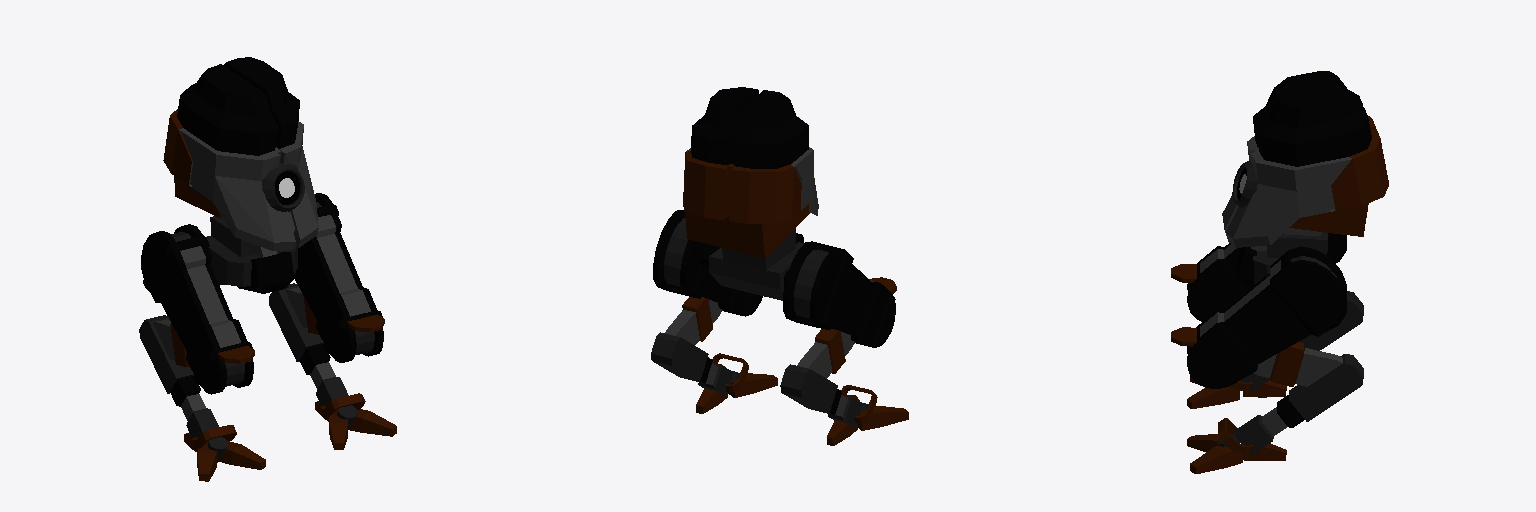
The model's file is Leela.obj.
The picture shows the model from 3 angles: view 1: azimuth 30°, elevation 25°; view 2: azimuth 150°, elevation 25°; view 3: azimuth 270°, elevation 25°; orthographic projection.
Visible parts, largest first — view 1: Leela.001_Cube.001; view 2: Leela.001_Cube.001; view 3: Leela.001_Cube.001.
Part boxes in pixels (bbox=[...]): Leela.001_Cube.001: bbox=[139, 57, 396, 481]; Leela.001_Cube.001: bbox=[651, 87, 908, 445]; Leela.001_Cube.001: bbox=[1171, 71, 1388, 473].
Size of the model in its own units: 2.96 by 4.9 by 2.83.